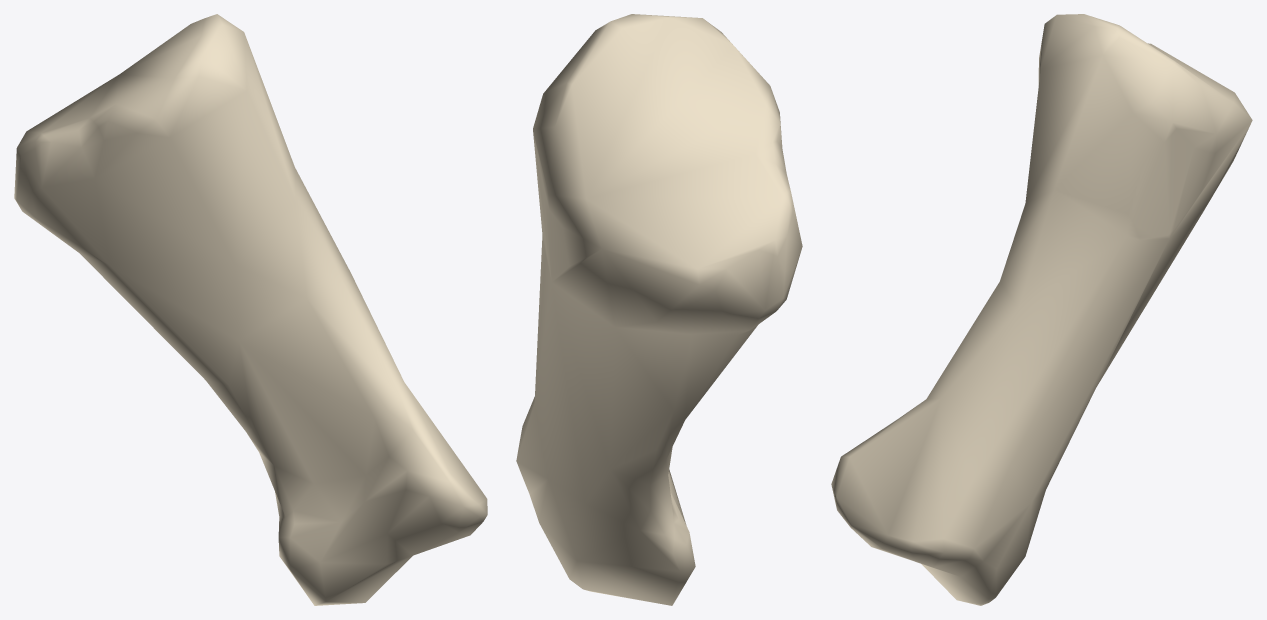
File: proximal-phalanx-of-first-finger-of-hand-l.glb
3 renders of one model, left to right at view 1: azimuth 30°, elevation 25°; view 2: azimuth 150°, elevation 25°; view 3: azimuth 270°, elevation 25°, orthographic. The views are drawn at different scales.
Parts seen in each view (by area): view 1: Proximal phalanx of first finger of hand.l; view 2: Proximal phalanx of first finger of hand.l; view 3: Proximal phalanx of first finger of hand.l.
Boxes of the visible parts, bbox=[...] form: Proximal phalanx of first finger of hand.l: bbox=[14, 14, 487, 605]; Proximal phalanx of first finger of hand.l: bbox=[516, 14, 802, 605]; Proximal phalanx of first finger of hand.l: bbox=[831, 14, 1252, 605].
Bounding box in the file's own units: 0.0209 × 0.0325 × 0.023.
